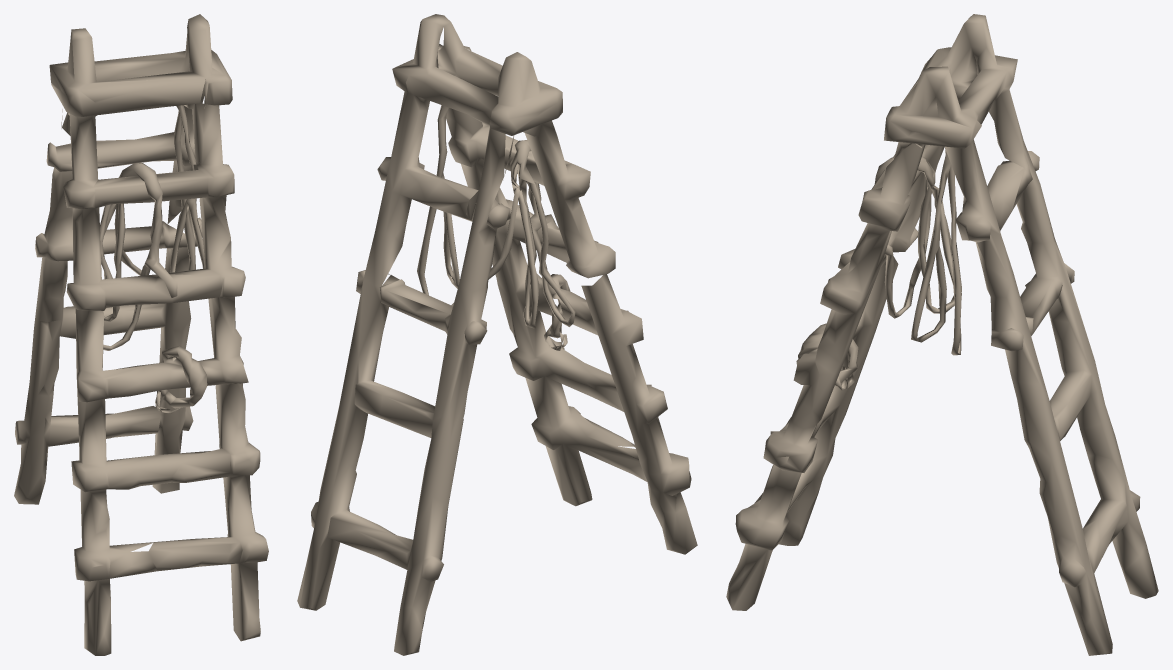
File: kit_ladder.glb
The picture shows the model from 3 angles, left to right: view 1: azimuth 30°, elevation 25°; view 2: azimuth 150°, elevation 25°; view 3: azimuth 270°, elevation 25°; orthographic projection. The views are drawn at different scales.
Visible parts, largest first — view 1: ladder; view 2: ladder; view 3: ladder.
Boxes of the visible parts, x1,y1,x2,y2 form: ladder: (14,14,268,655); ladder: (297,14,697,655); ladder: (726,14,1158,655).
Bounding box in the file's own units: 1.42 × 3 × 2.09.
